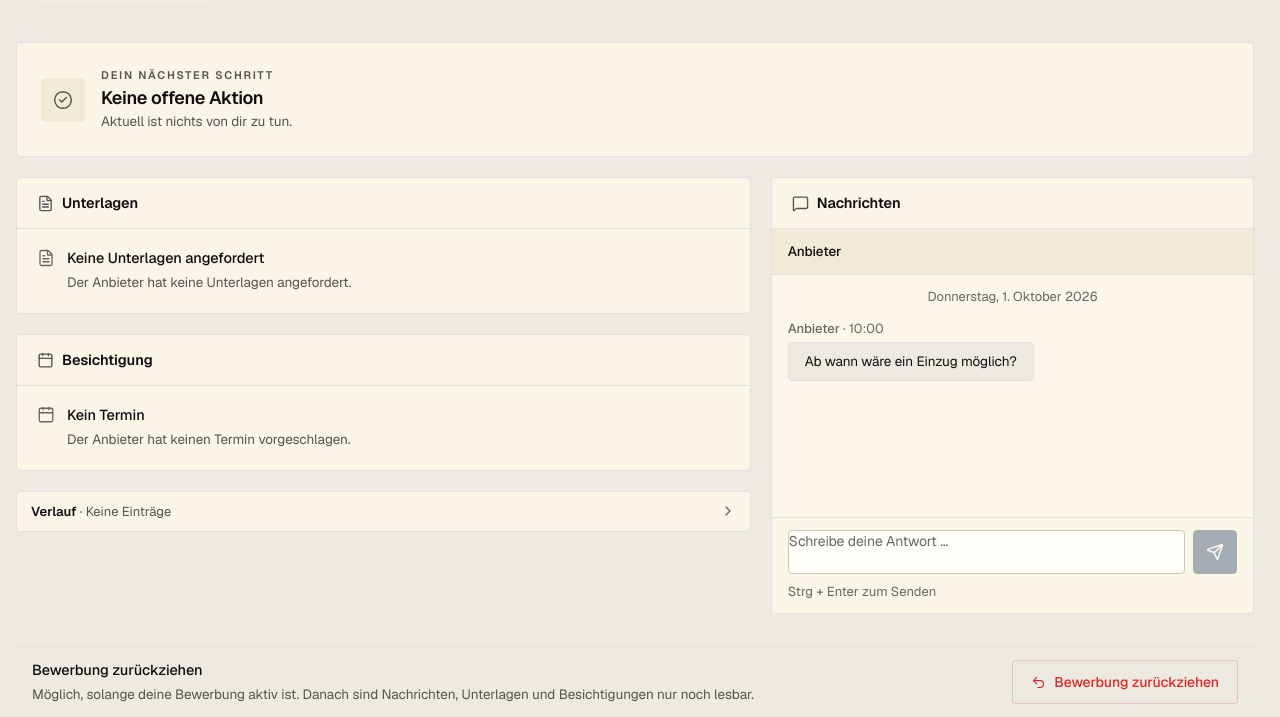
Test: ApplicationWorkspace conversation › preserves the draft and shows a safe error when sending fails
(page scrolled)
Type "Mein Entwurf" into the text box named "Antwort an den Anbieter".
click(986, 552); type("Mein Entwurf")  # box [788,530,1185,574]
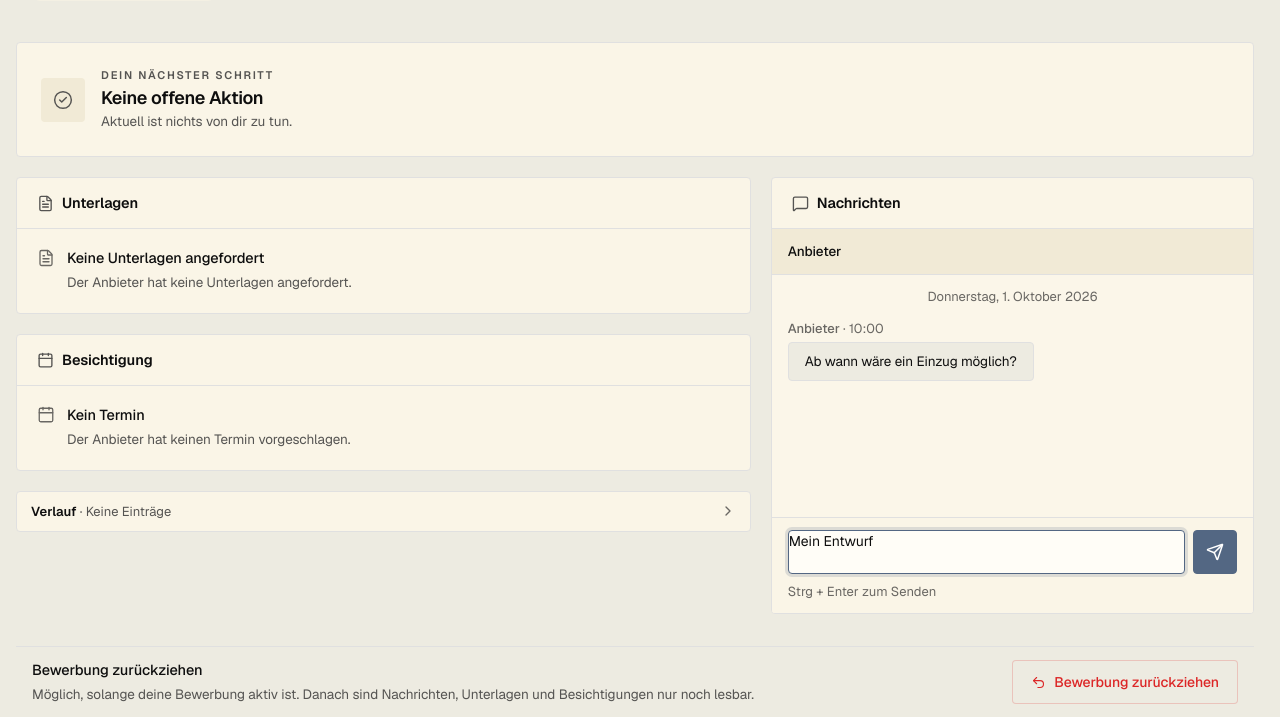
Click the button named "Senden".
click(1215, 552)  # box [1193,530,1237,574]
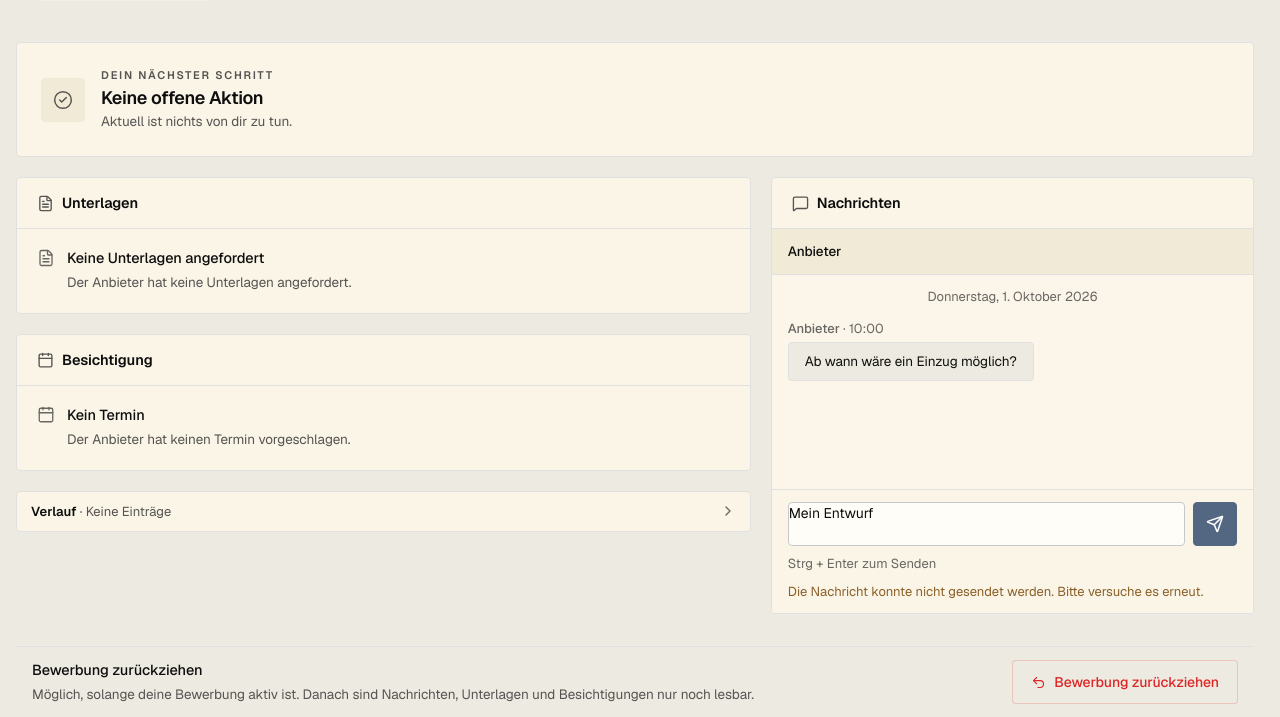
Now the text "Die Nachricht konnte nicht gesendet werden. Bitte versuche es erneut." is shown, box [788,582,1237,601]
